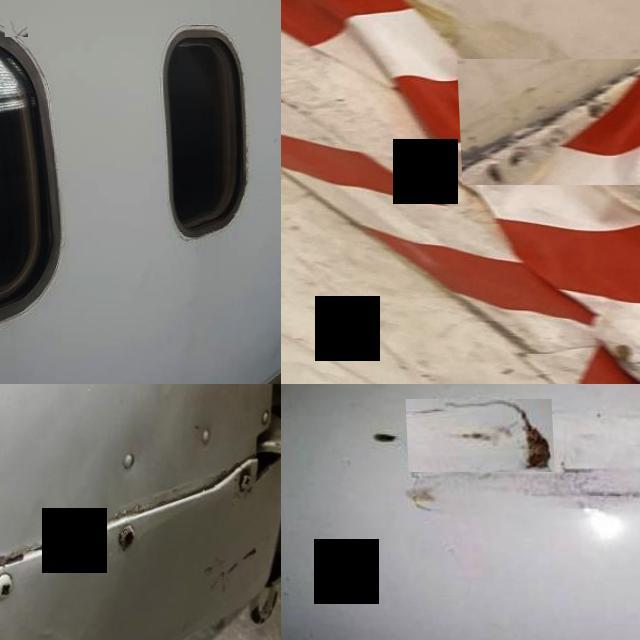Crack: (453, 58, 640, 185), (405, 400, 551, 472), (187, 527, 266, 614), (0, 534, 25, 607), (552, 456, 608, 474), (4, 16, 26, 37)
